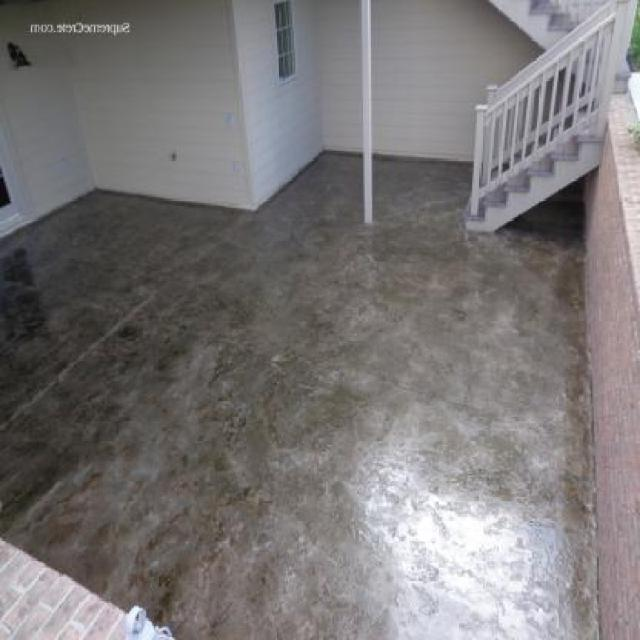stair: (460, 0, 633, 235)
